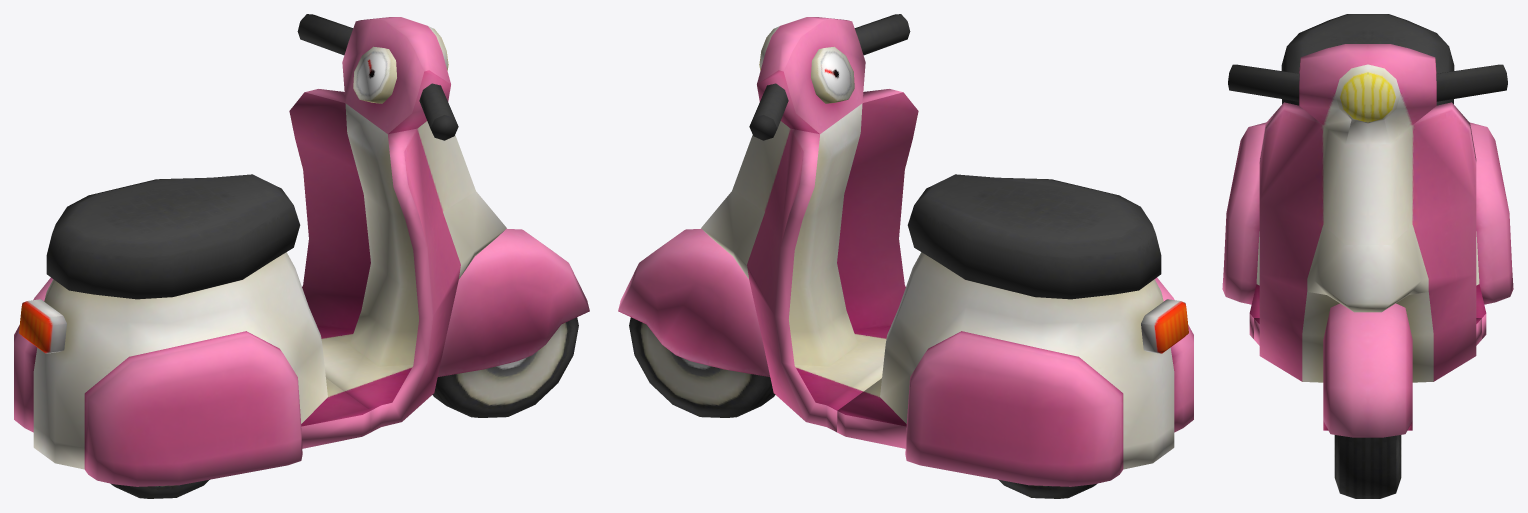
The model's file is scooter.glb.
3 renders of one model, left to right at view 1: azimuth 30°, elevation 25°; view 2: azimuth 150°, elevation 25°; view 3: azimuth 270°, elevation 25°, orthographic.
Visible parts, largest first — view 1: scooter; view 2: scooter; view 3: scooter.
Boxes of the visible parts, x1,y1,x2,y2 form: scooter: [14, 14, 589, 498]; scooter: [618, 14, 1193, 498]; scooter: [1222, 14, 1513, 498].
Size of the model in its own units: 1.44 by 1.02 by 0.6738.
Materials: 1 (1 with a texture image).
